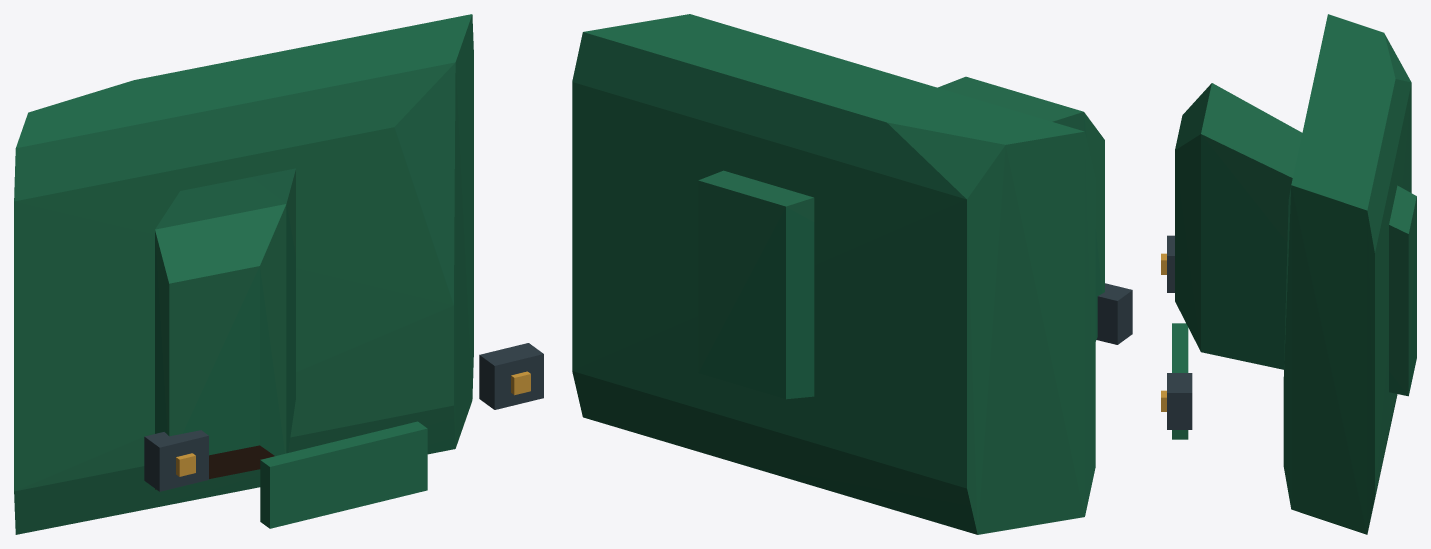
The model's file is tool-bench-mint.glb.
3 renders of one model, left to right at view 1: azimuth 30°, elevation 25°; view 2: azimuth 150°, elevation 25°; view 3: azimuth 270°, elevation 25°, orthographic. The views are drawn at different scales.
Visible parts, largest first — view 1: tool-bench-mint; view 2: tool-bench-mint; view 3: tool-bench-mint.
Boxes of the visible parts, x1=… form: tool-bench-mint: x1=14, y1=14, x2=543, y2=534; tool-bench-mint: x1=572, y1=14, x2=1132, y2=534; tool-bench-mint: x1=1161, y1=14, x2=1416, y2=534.
Size of the model in its own units: 1.4 by 1.05 by 0.7503.
